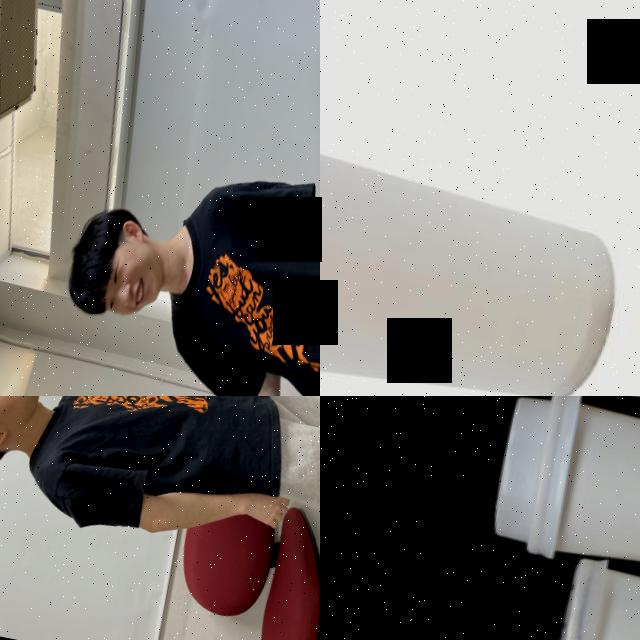cup: (320, 107, 638, 396), (485, 396, 640, 619)
